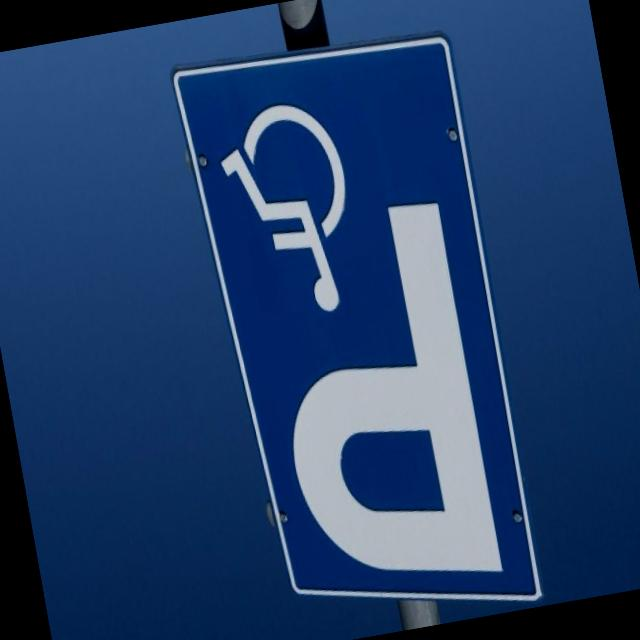symbol_of_access: (200, 68, 378, 335)
